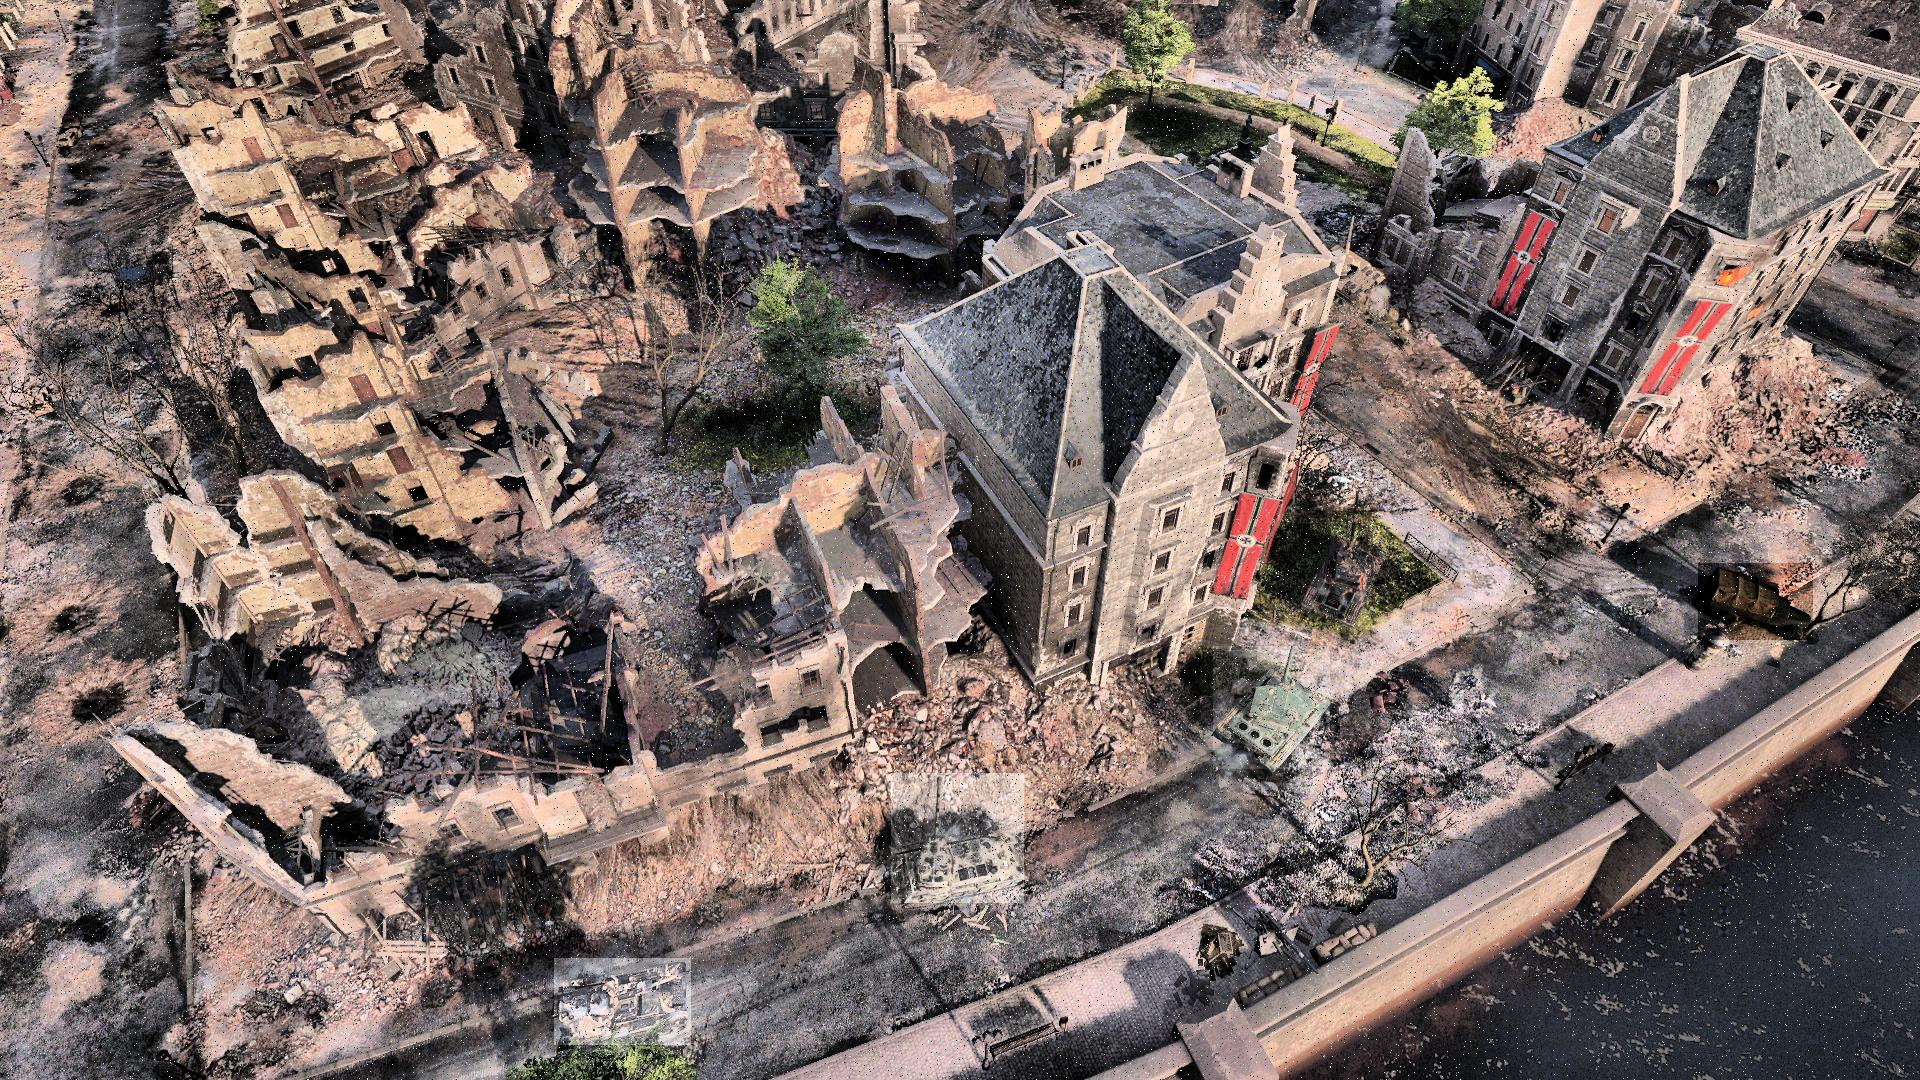military-vehicle: (891, 773, 1025, 903), (1213, 646, 1331, 770), (555, 959, 692, 1046), (1302, 492, 1385, 632), (1698, 563, 1813, 640)
